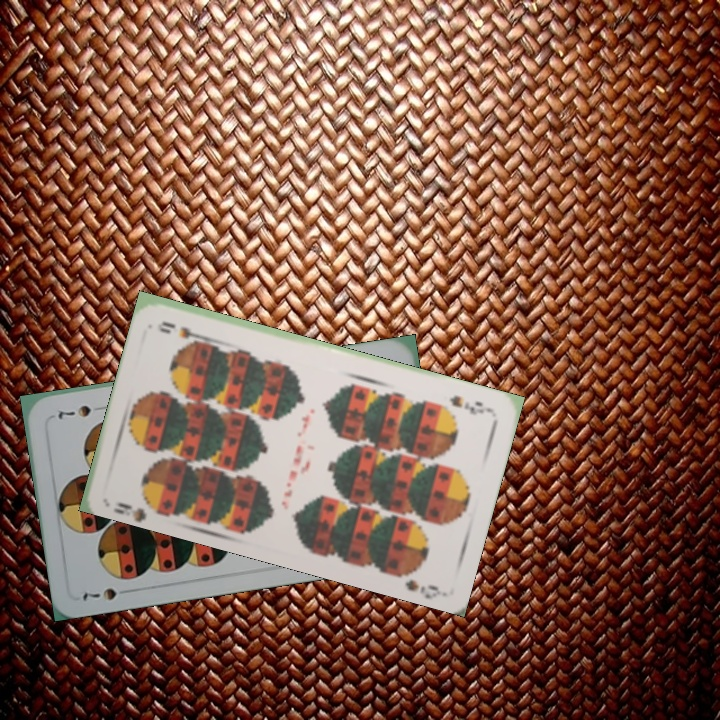S7: (76, 584, 119, 605)
S9: (110, 491, 165, 520), (446, 391, 494, 418)
